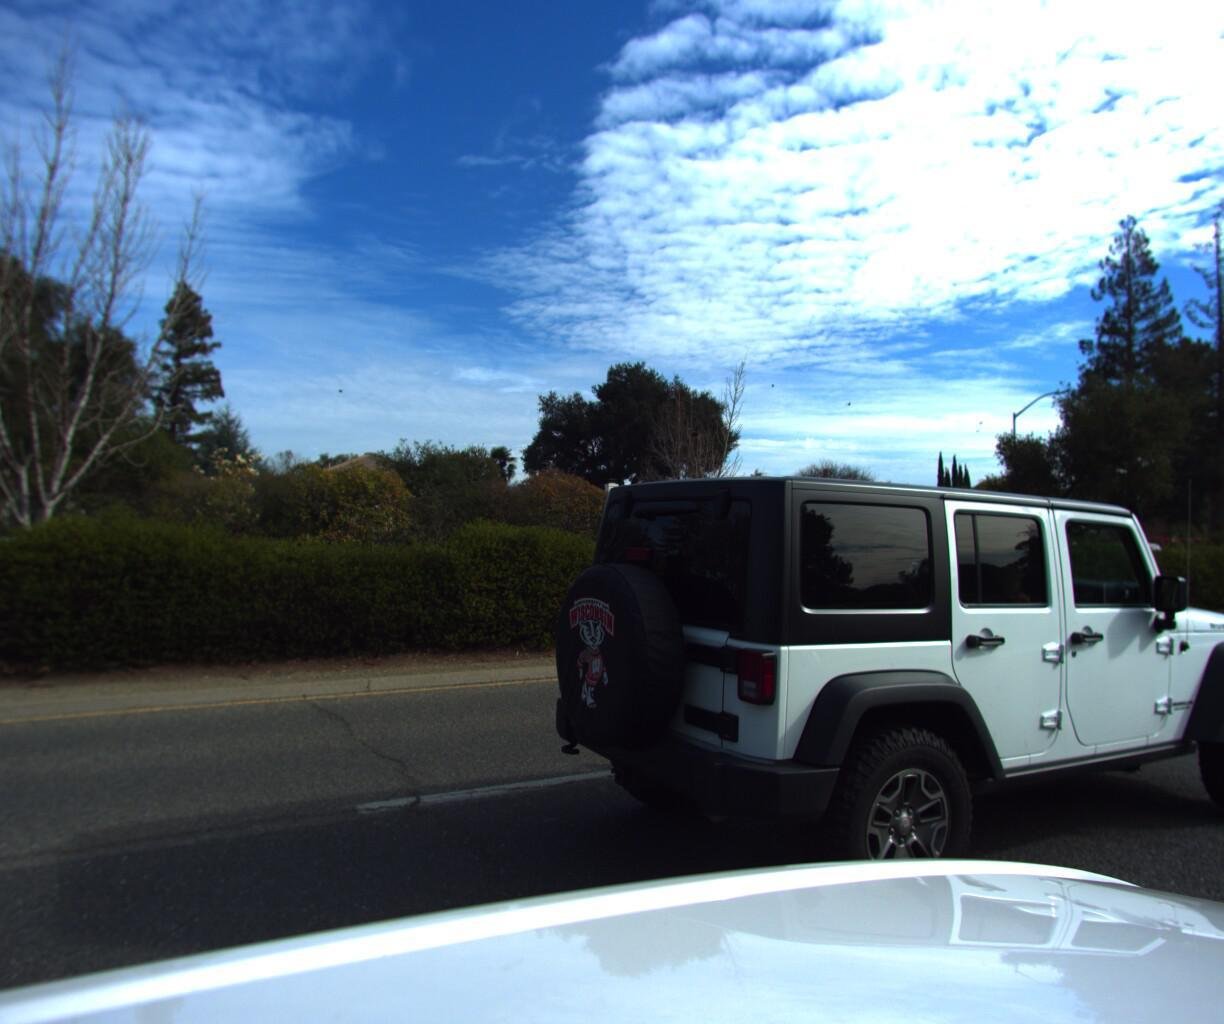car: (506, 446, 1224, 979), (1076, 527, 1222, 579)
